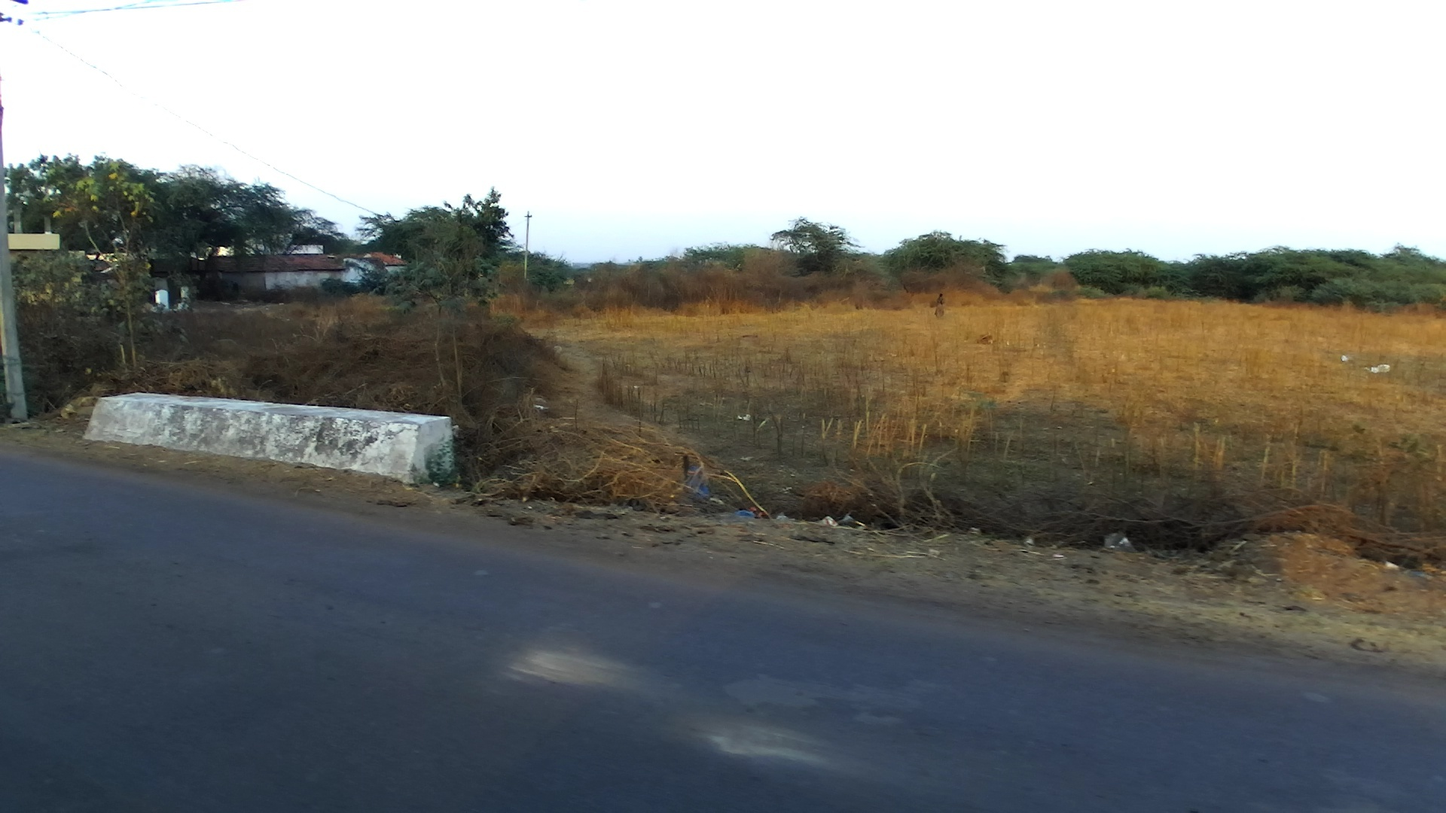person: (932, 291, 947, 318)
